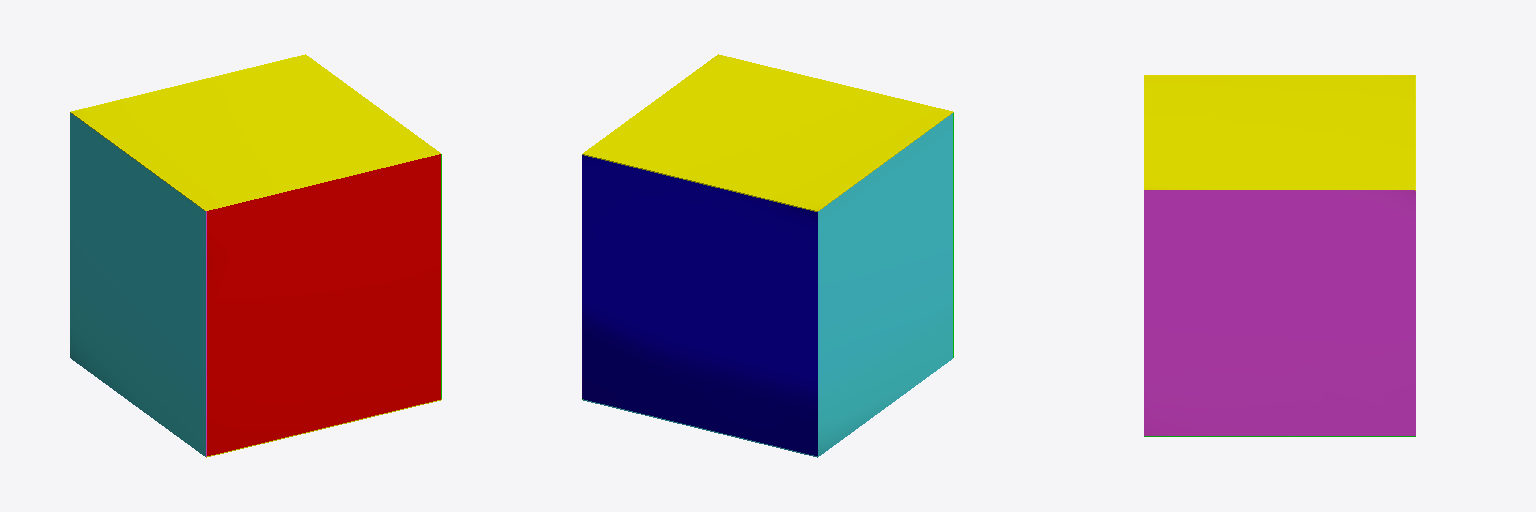
3 views of the same model, side by side, from view 1: azimuth 30°, elevation 25°; view 2: azimuth 150°, elevation 25°; view 3: azimuth 270°, elevation 25° (orthographic).
Visible parts, largest first — view 1: Cube; view 2: Cube; view 3: Cube.
Part boxes in pixels (bbox=[...]): Cube: bbox=[70, 54, 441, 457]; Cube: bbox=[582, 54, 953, 457]; Cube: bbox=[1144, 75, 1415, 436].
Size of the model in its own units: 2 by 2 by 2.
Materials: 1 (1 with a texture image).